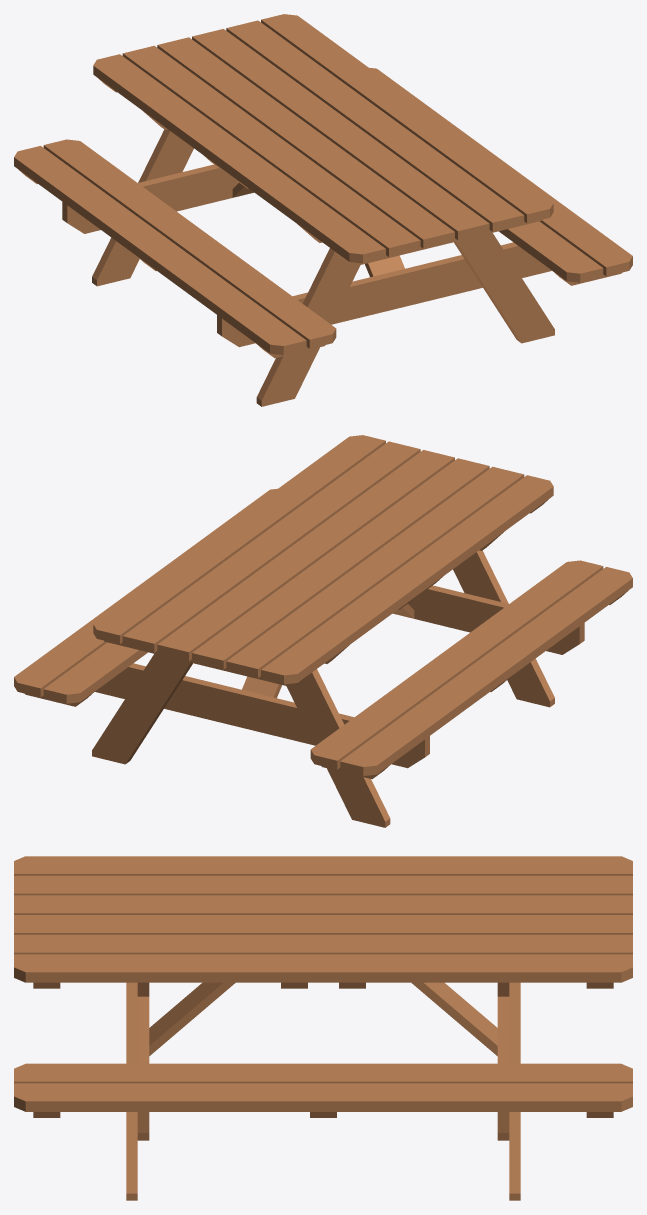
Rendered from Picnic Table .fbx.
The picture shows the model from 3 angles, top to bottom: view 1: azimuth 30°, elevation 25°; view 2: azimuth 150°, elevation 25°; view 3: azimuth 270°, elevation 25°; orthographic projection. The views are drawn at different scales.
Parts seen in each view (by area): view 1: Group15, Group16, Group11, Group14, Group13, Group12, Group17, Group10, Group6, Group1, Group2, Group8 (+3 smaller); view 2: Group15, Group16, Group11, Group13, Group14, Group12, Group17, Group10, Group7, Group4, Group3, Group8 (+3 smaller); view 3: Group8, Group10, Group11, Group14, Group9, Group12, Group13, Group15, Group19, Group30, Group1, Group4 (+2 smaller).
Part boxes in pixels (x1,y1,x2,y2): Group15: (93,54,385,263); Group16: (14,146,306,355); Group11: (226,20,524,231); Group14: (122,45,420,256); Group13: (157,37,454,248); Group12: (192,29,489,240); Group17: (43,139,336,348); Group10: (261,14,553,223); Group6: (217,242,551,347); Group1: (454,233,554,343); Group2: (256,248,360,406); Group8: (369,67,632,276); Group15: (261,475,553,684); Group16: (340,567,632,776); Group11: (122,441,420,652); Group13: (192,458,489,669); Group14: (226,466,524,677); Group12: (157,450,454,661); Group17: (310,560,603,769); Group10: (93,435,385,644); Group7: (95,663,429,768); Group4: (92,654,192,764); Group3: (286,669,390,827); Group8: (14,488,277,697); Group8: (14,1083,632,1111); Group10: (14,954,632,982); Group11: (14,934,632,954); Group14: (14,875,632,895); Group9: (14,1063,632,1083); Group12: (14,915,632,934); Group13: (14,895,632,914); Group15: (14,856,632,875); Group19: (149,982,235,1055); Group30: (411,982,497,1055); Group1: (126,982,137,1200); Group4: (509,982,520,1200).
Bounding box in the file's own units: 63 × 29 × 80.
